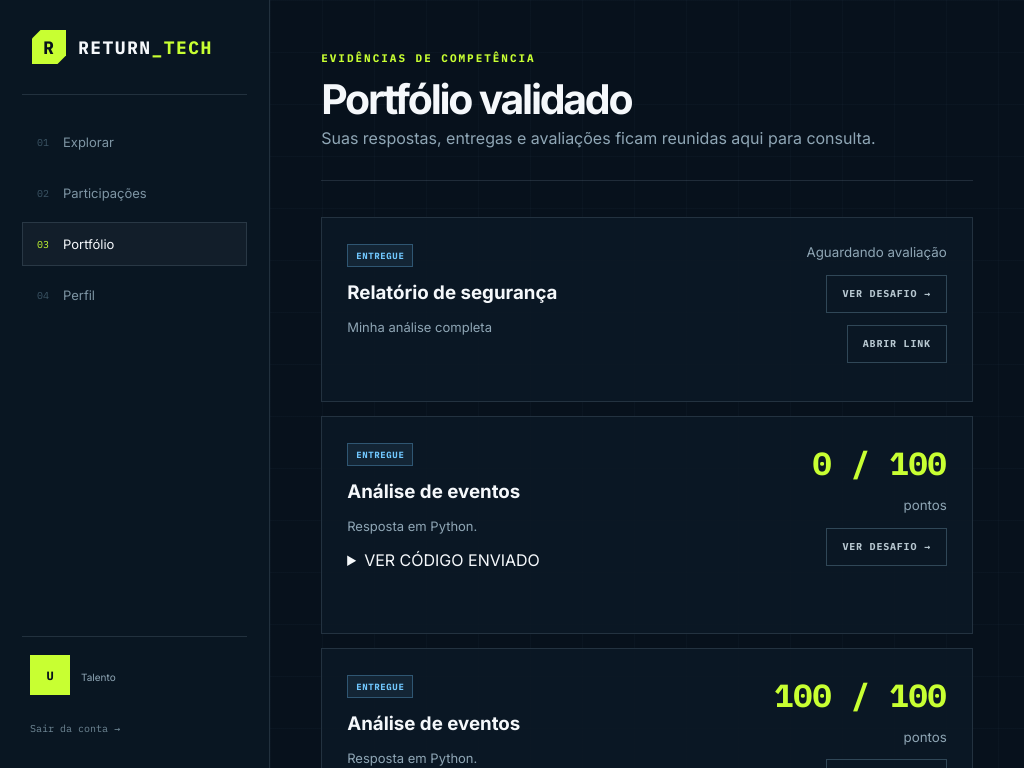
Scenario: integration with existing project flows › keeps every code attempt and report accessible in the portfolio
Expected: the text "Minha análise completa" is shown, left=347, top=319, right=492, bottom=335
Expected: the text "0 / 100" is shown, left=812, top=442, right=947, bottom=484
Step 1. Click the heading "VER CÓDIGO ENVIADO" → point(452, 560), box left=364, top=550, right=540, bottom=570
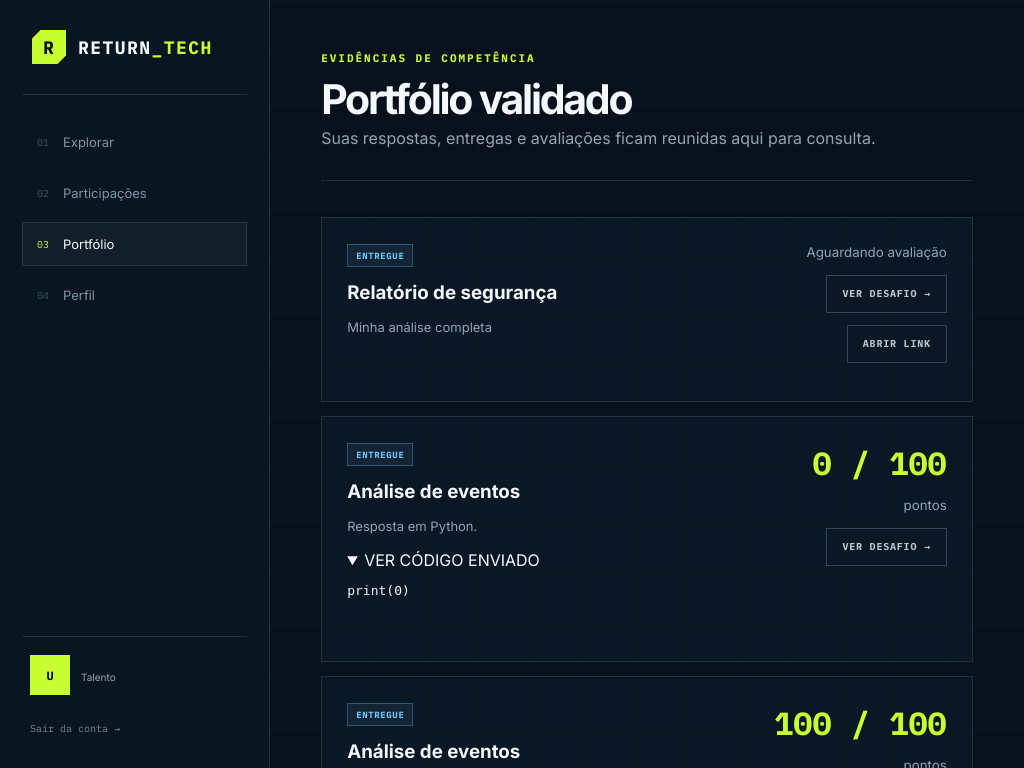
Expected: the text "print(0)" is shown, left=347, top=582, right=410, bottom=598
